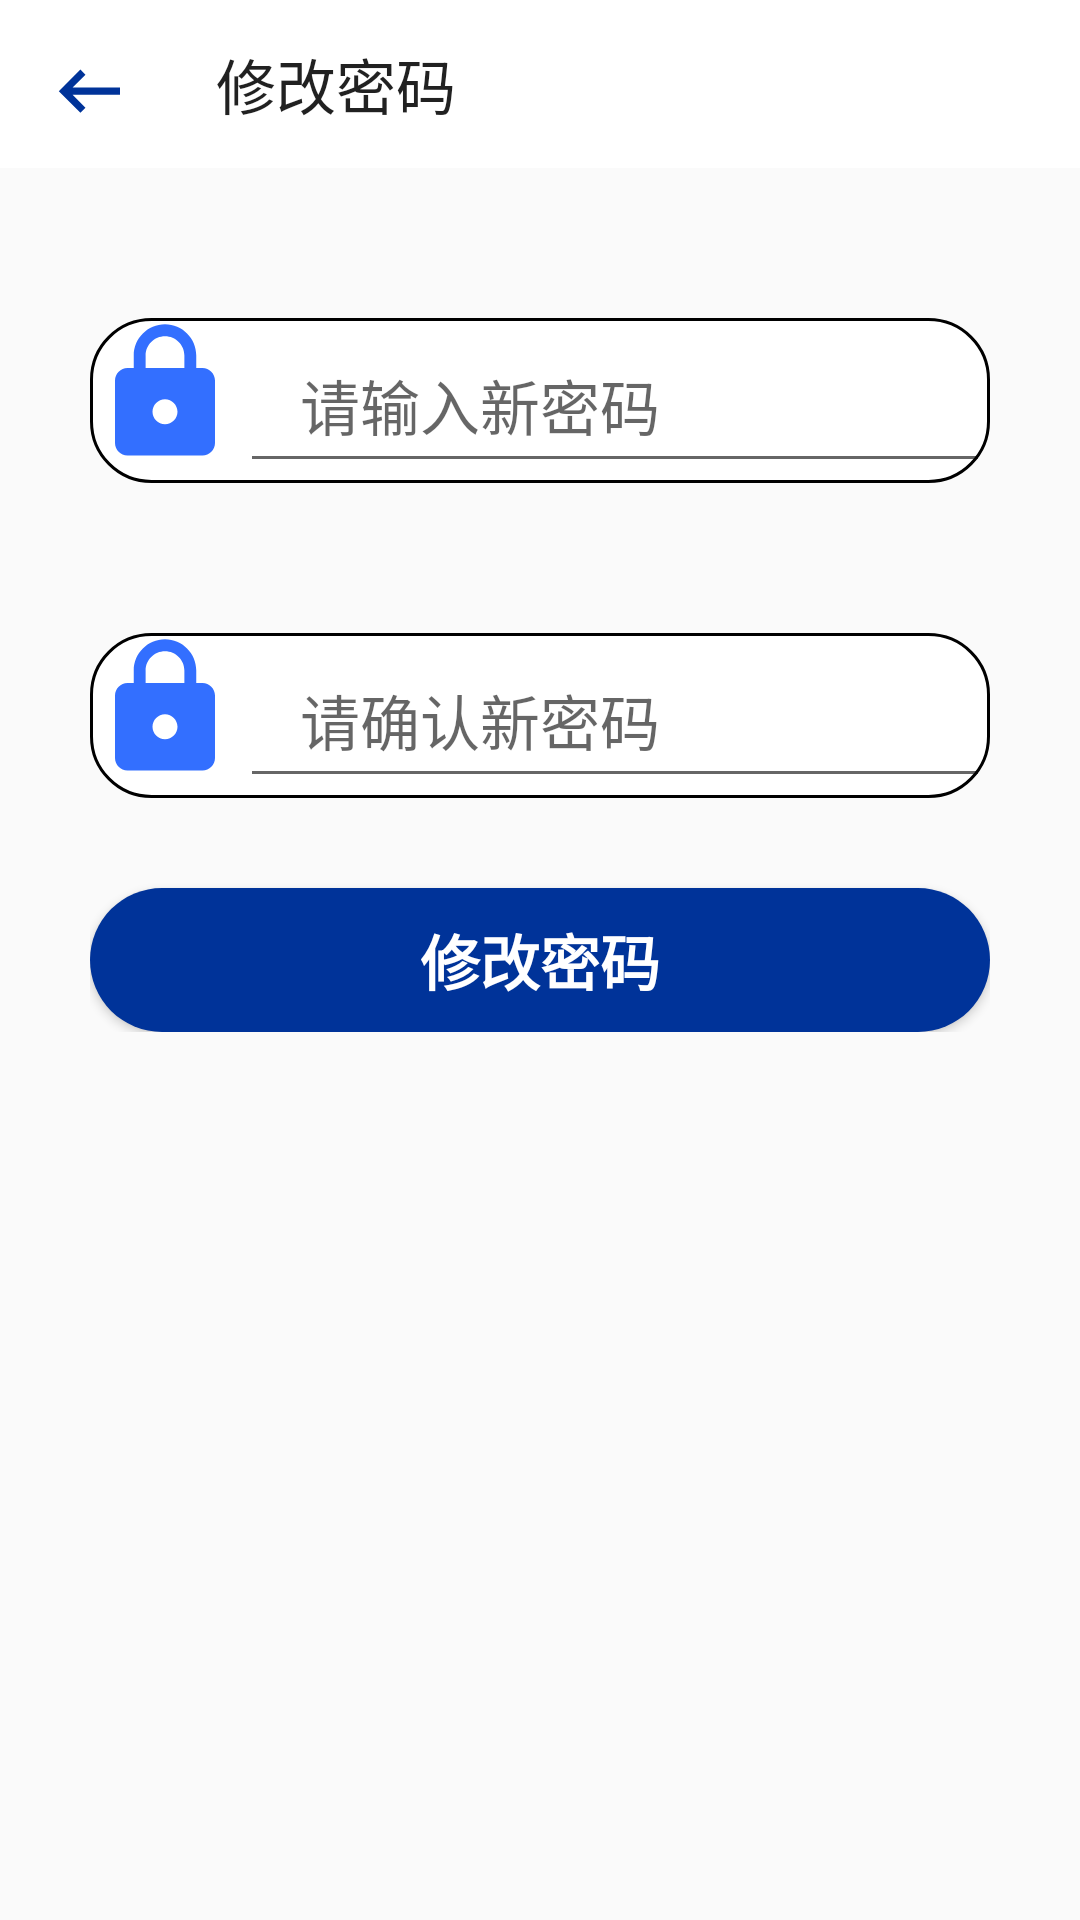

Named icons in this screenshot (1080x1920) and their centers, (x=x, y=y):
lock: (x=165, y=390), (x=165, y=705)
